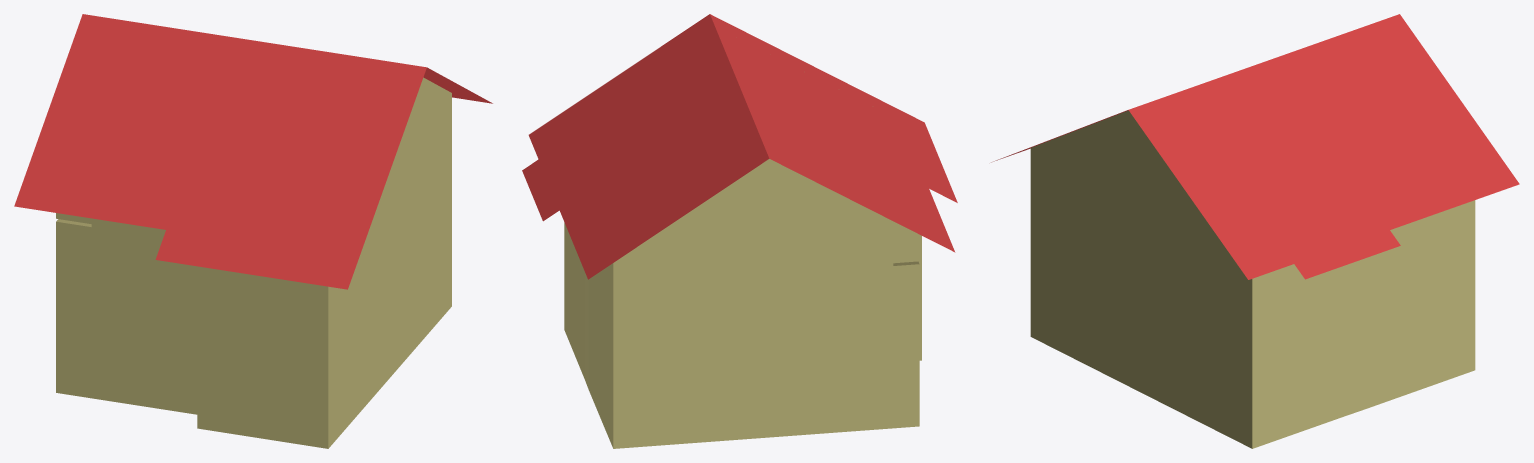
3 renders of one model, left to right at view 1: azimuth 30°, elevation 25°; view 2: azimuth 150°, elevation 25°; view 3: azimuth 270°, elevation 25°, orthographic. The views are drawn at different scales.
Size of the model in its own units: 16.43 by 16.93 by 10.4.
